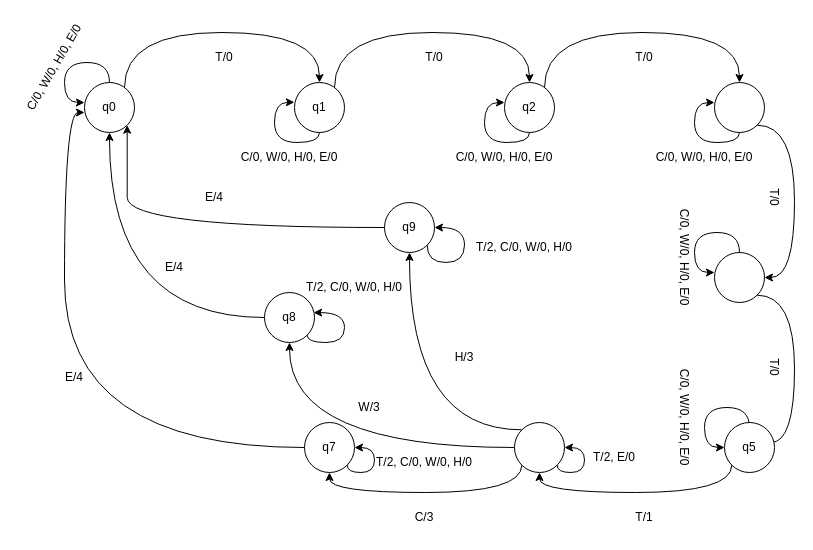
This 813x550 diagram has some shape labels left out. Each missing label, with the centre of its shape:
"q3" goes at (x=739, y=107).
"q4" goes at (x=739, y=277).
"q6" goes at (x=539, y=447).
